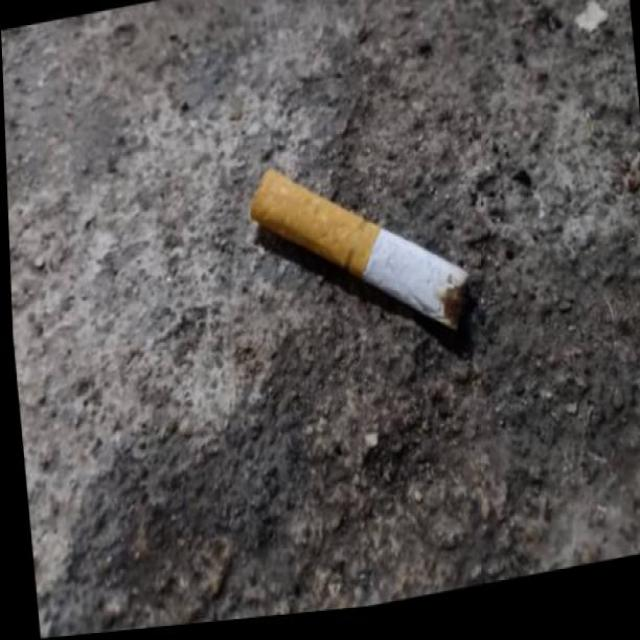cigarette: (238, 133, 481, 380)
